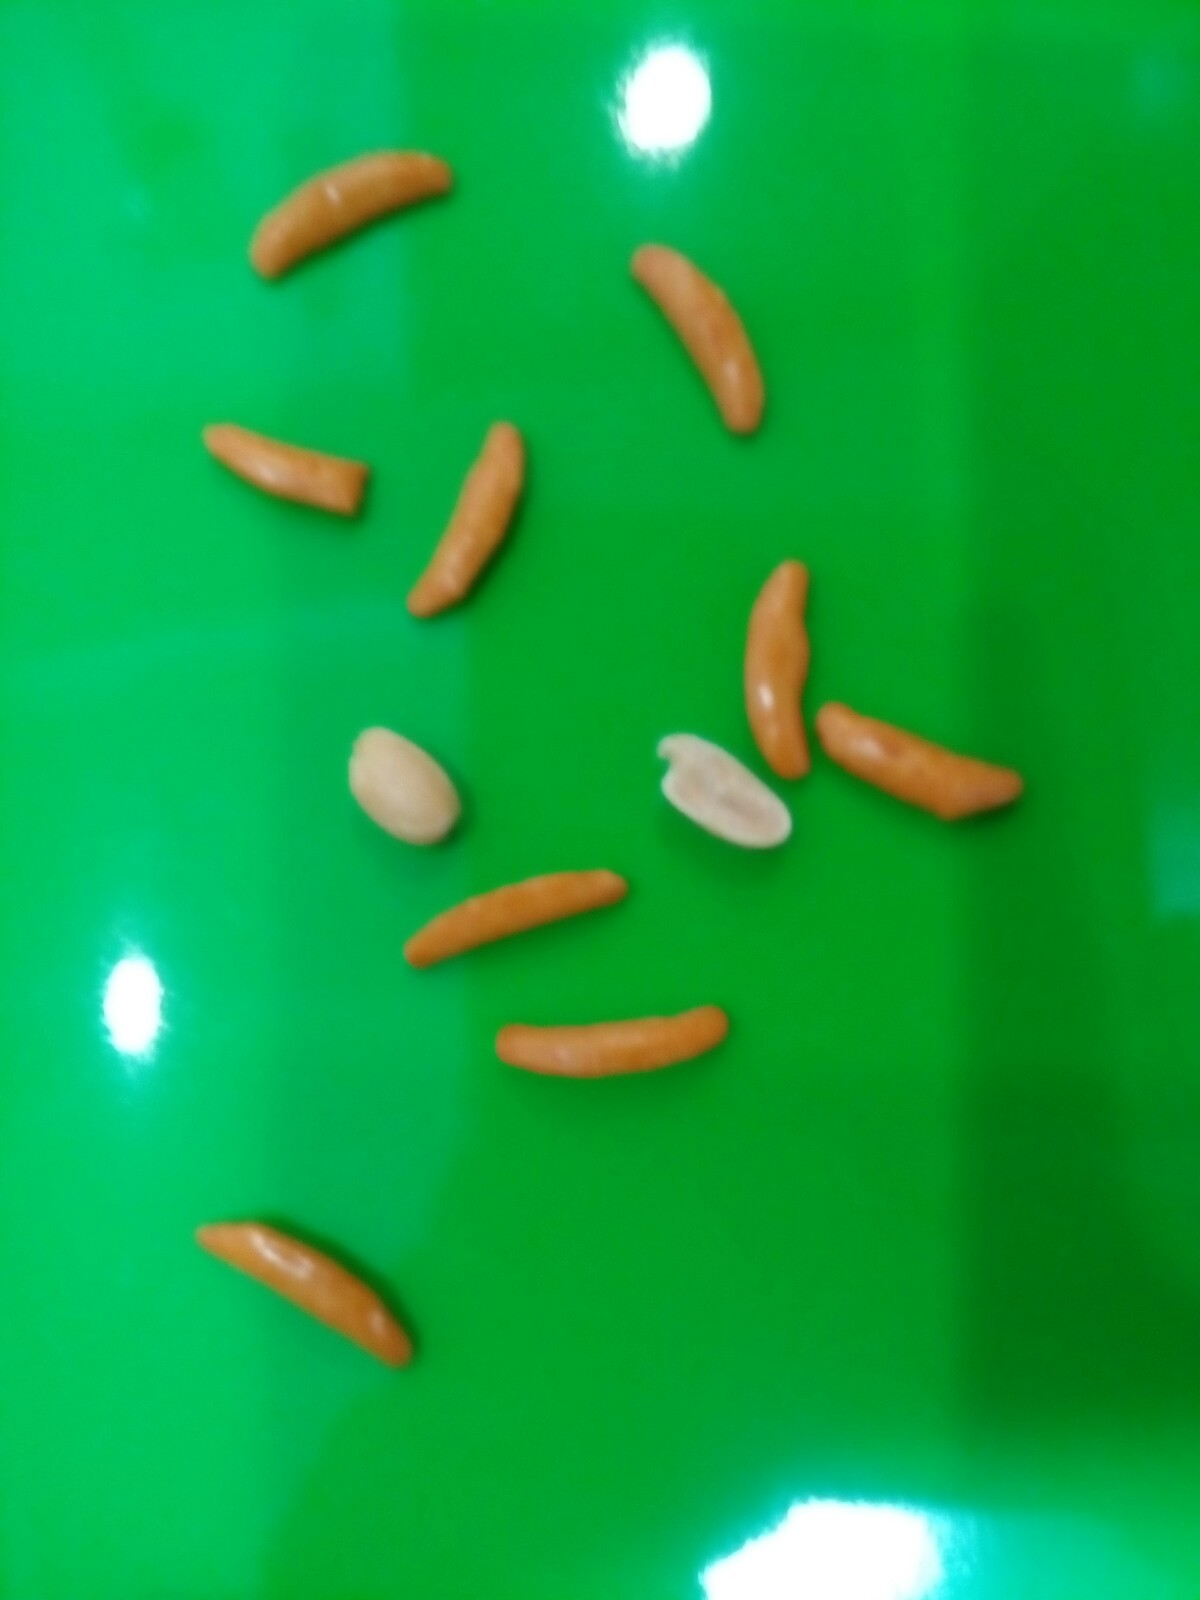peanut: (643, 724, 805, 860), (348, 719, 473, 850)
